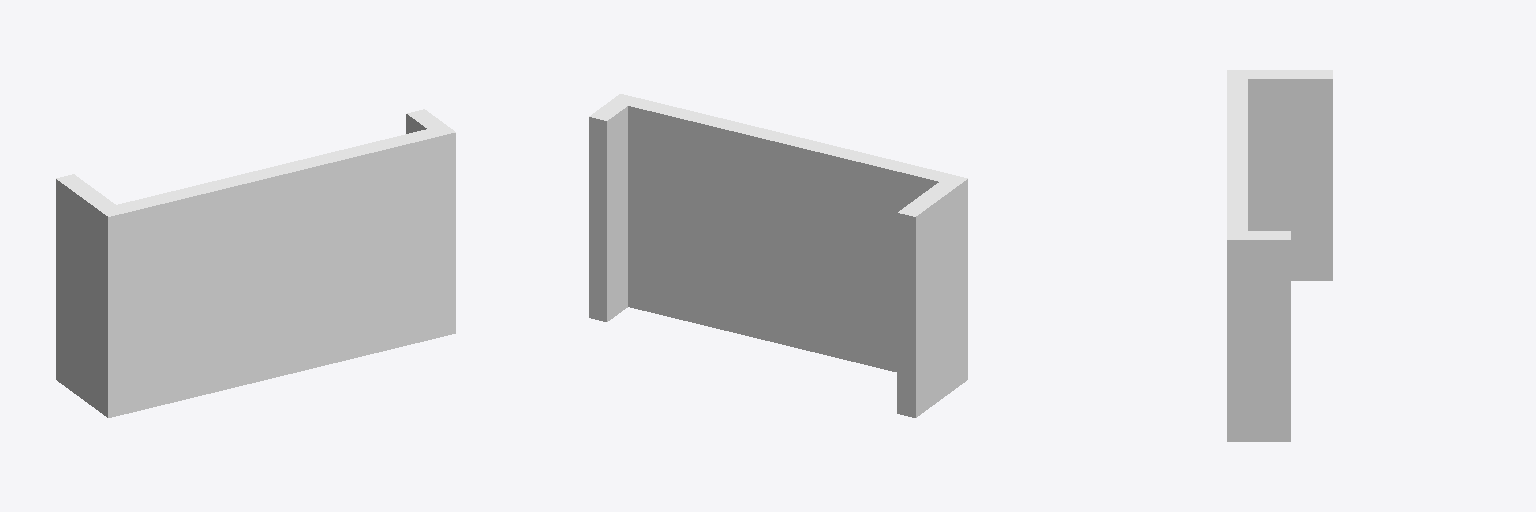
The model's file is BackHallWall.obj.
3 renders of one model, left to right at view 1: azimuth 30°, elevation 25°; view 2: azimuth 150°, elevation 25°; view 3: azimuth 270°, elevation 25°, orthographic.
Visible parts, largest first — view 1: BackHallWall; view 2: BackHallWall; view 3: BackHallWall.
Boxes of the visible parts, box(x1,y1,x2,y2) form: BackHallWall: box(56, 109, 455, 417); BackHallWall: box(589, 94, 967, 417); BackHallWall: box(1227, 70, 1332, 441).
Size of the model in its own units: 19 by 10.5 by 5.